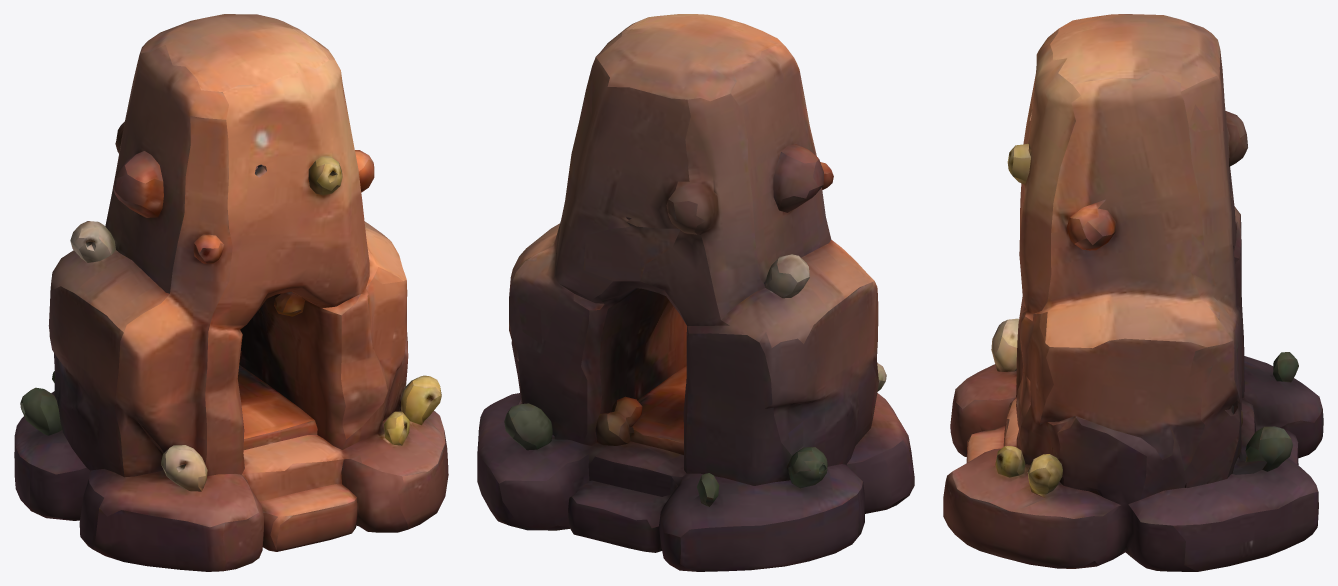
Rendered from lg-sea-cave-rock.glb.
The picture shows the model from 3 angles, left to right: view 1: azimuth 30°, elevation 25°; view 2: azimuth 150°, elevation 25°; view 3: azimuth 270°, elevation 25°; orthographic projection.
Visible parts, largest first — view 1: geometry_0; view 2: geometry_0; view 3: geometry_0.
Boxes of the visible parts, x1,y1,x2,y2 form: geometry_0: (14, 14, 448, 571); geometry_0: (477, 14, 914, 571); geometry_0: (943, 14, 1323, 571).
Size of the model in its own units: 0.8488 by 1 by 0.7529.
1 material, 1 textured.
